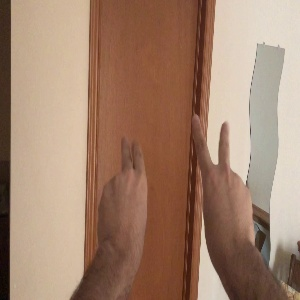hand: (191, 114, 254, 242), (98, 135, 149, 247)
